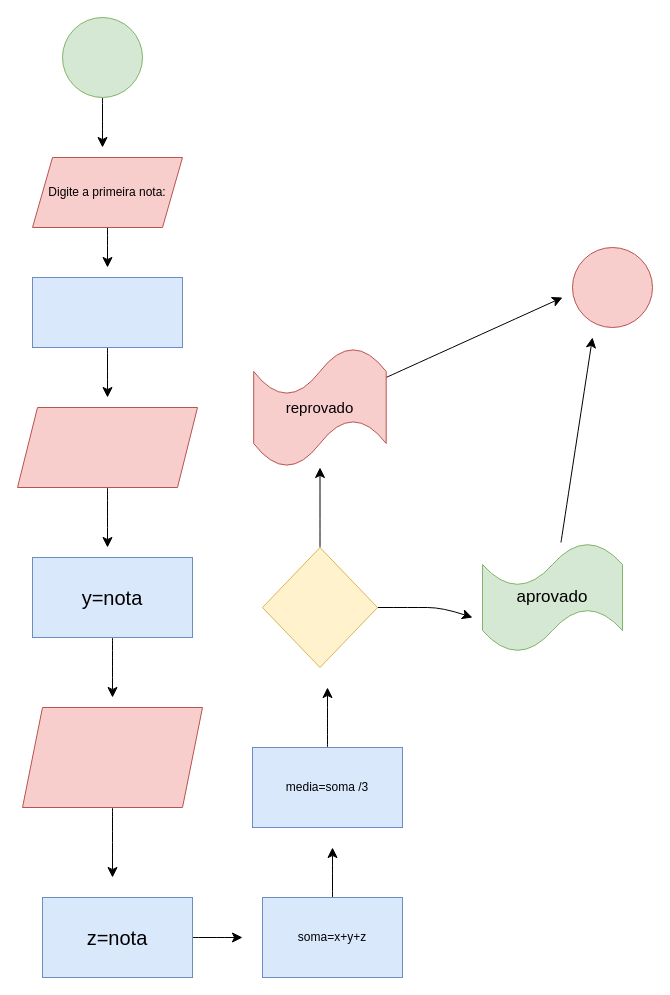
Some shapes in this 670 by 995 pixel diagram are drawn without their labels. Here are the shapes that lost their labels. From the top down, the centre of each, then its label:
pixel 107 312: x=nota
pixel 107 447: digite segunda nota
pixel 320 607: se media> ou igual a 6
pixel 112 757: digite a terceira nota
